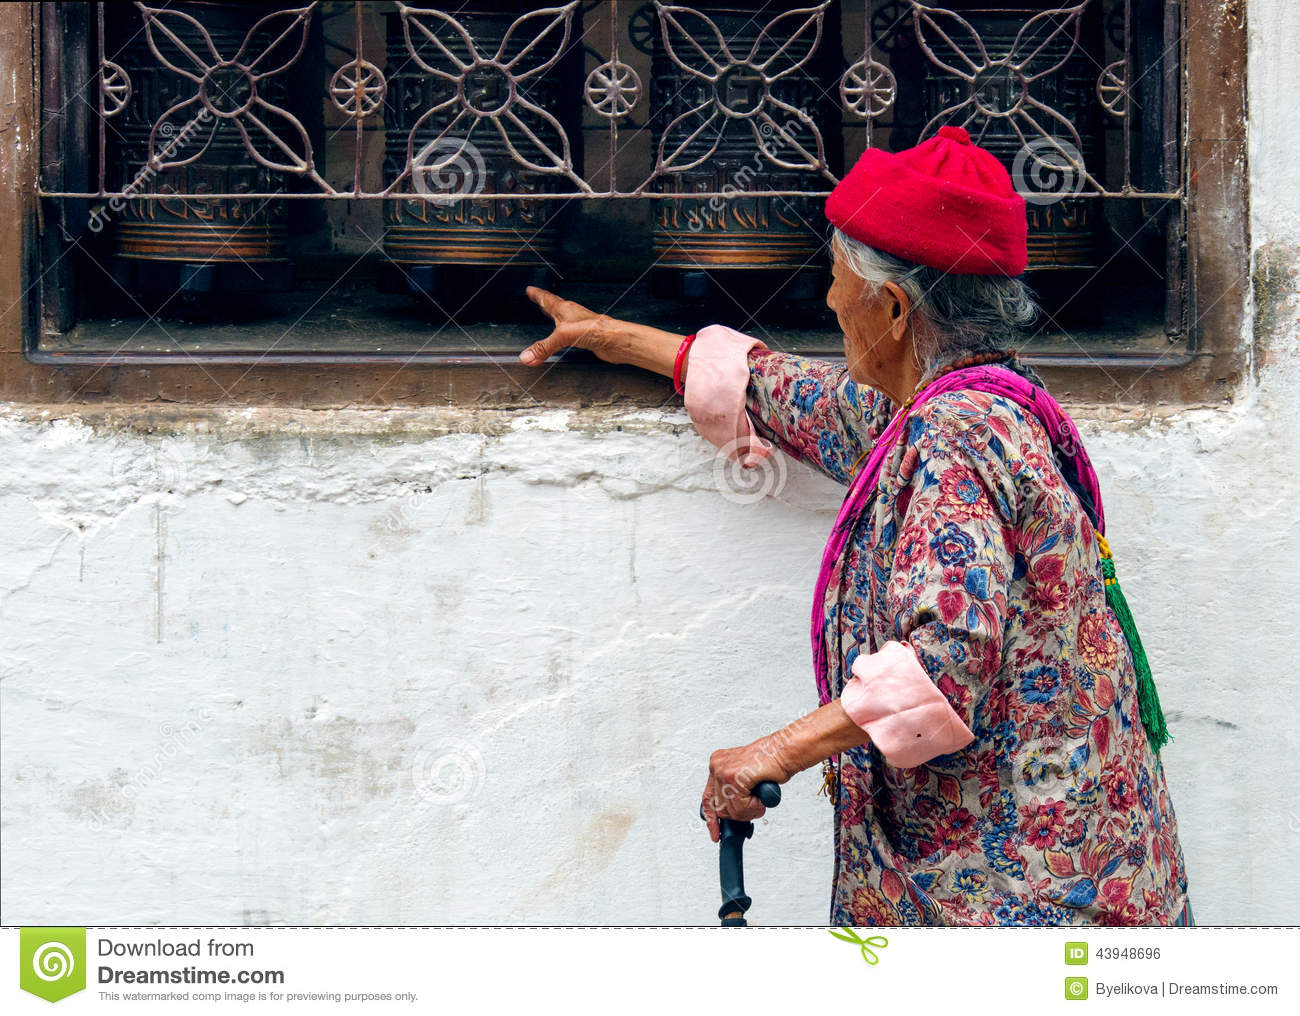human: (458, 113, 1208, 926)
